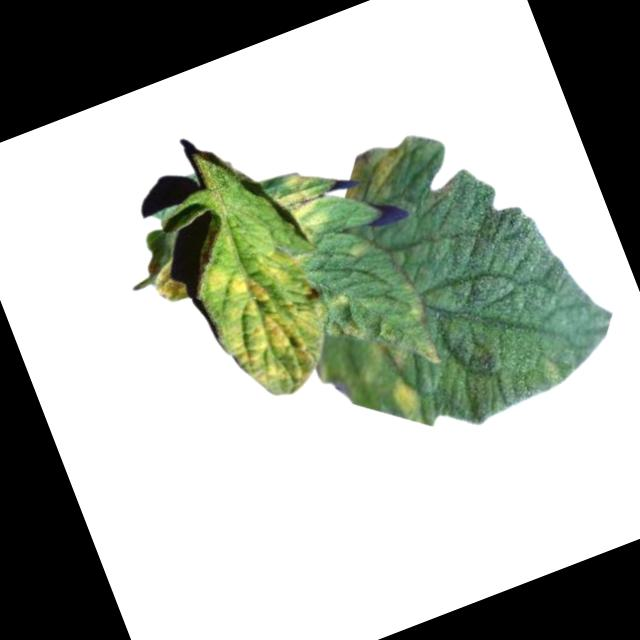Leaf_Mold: (188, 234, 351, 415), (266, 161, 345, 250), (335, 134, 423, 210), (389, 376, 430, 424), (416, 335, 446, 369), (339, 316, 369, 348), (346, 234, 375, 264)
